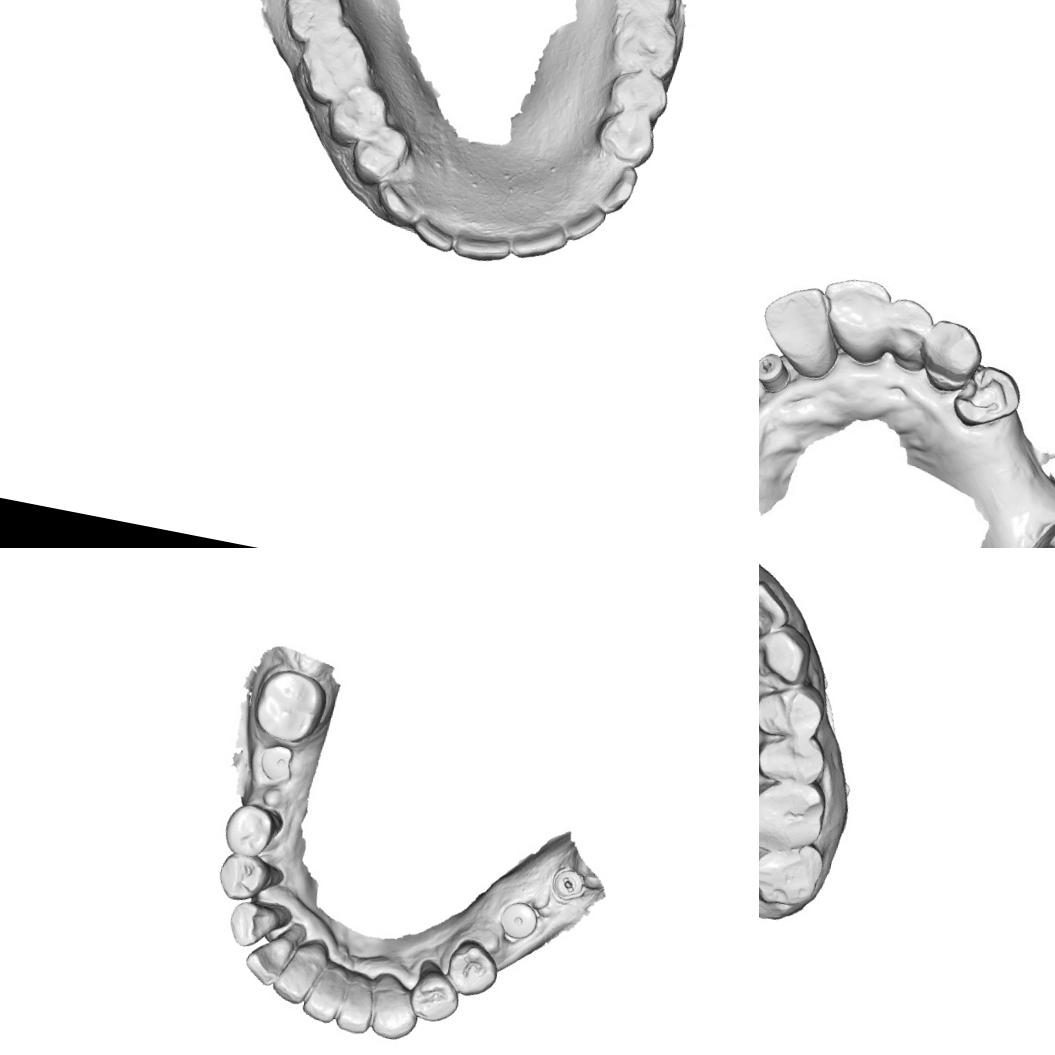canine: (918, 312, 988, 388), (759, 619, 817, 689), (362, 980, 423, 1044), (222, 896, 284, 954), (369, 172, 426, 232), (588, 158, 644, 219)
implant: (254, 739, 299, 786), (496, 898, 540, 943)
implant_minus: (546, 861, 590, 906), (759, 349, 791, 386)
incisor: (810, 271, 898, 358), (759, 276, 835, 364), (876, 292, 938, 368), (239, 927, 296, 992), (446, 220, 514, 270), (268, 944, 321, 1008), (508, 215, 569, 267), (298, 964, 348, 1027), (331, 980, 380, 1038), (407, 207, 460, 258), (558, 198, 610, 247), (759, 575, 796, 638)
molar: (289, 25, 379, 112), (246, 661, 331, 749), (759, 772, 831, 860), (606, 7, 686, 84), (759, 833, 830, 914), (277, 0, 352, 51), (608, 0, 684, 27)
premolar: (322, 77, 394, 151), (344, 117, 416, 190), (591, 100, 662, 169), (759, 725, 832, 792), (759, 679, 827, 746), (603, 62, 674, 123), (441, 933, 504, 1001), (218, 798, 281, 861), (404, 966, 465, 1027), (212, 848, 272, 906)
